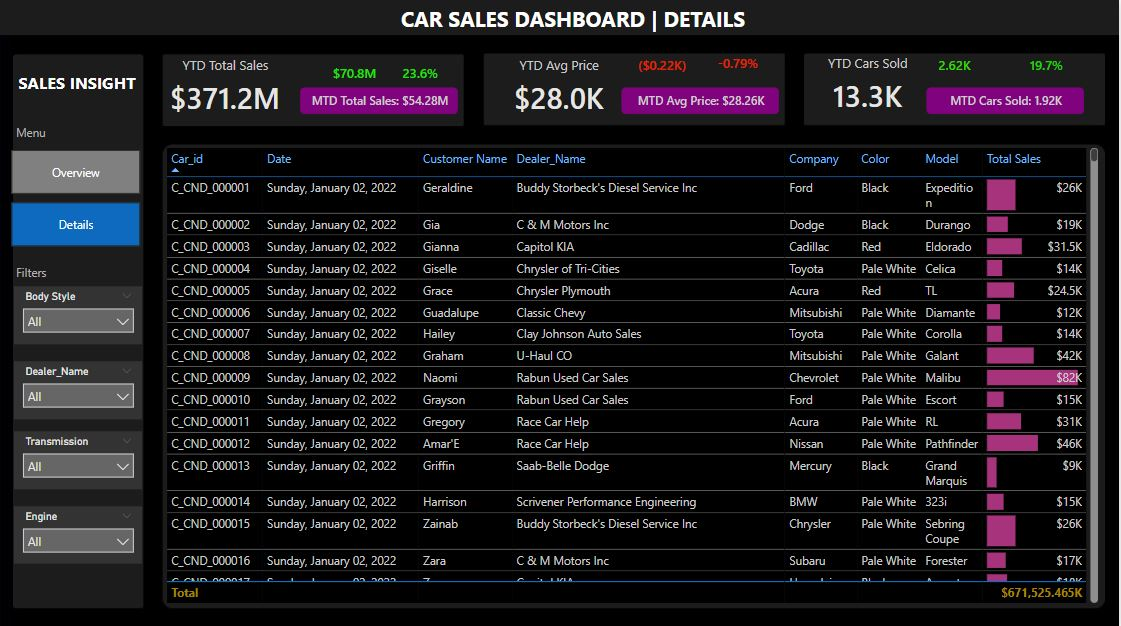

What the dashboard file says about the page in this screenshot:
{"tool":"powerbi","page":{"name":"Details","canvas":[1280,720],"ordinal":1},"visuals":[{"type":"card","title":"YTD Total Sales","fields":{"Values":["car_data.YTD Total Sales"]},"box":[185.7,64.3,145.7,75.7],"z":0},{"type":"card","fields":{"Values":["car_data.Sales Difference"]},"box":[344.3,67.1,124.3,38.6],"z":1000},{"type":"card","fields":{"Values":["car_data.YoY Sales Growth"]},"box":[438.6,64.3,85.7,44.3],"z":2000},{"type":"card","fields":{"Values":["car_data.MTD KPI"]},"box":[344.3,100,180,30],"z":3000},{"type":"card","title":"YTD Avg Price","fields":{"Values":["car_data.YTD Avg Price"]},"box":[567.1,64.3,145.7,75.7],"z":4000},{"type":"card","fields":{"Values":["car_data.Avg Price Diff"]},"box":[695.7,61.4,124.3,25.7],"z":5000},{"type":"card","fields":{"Values":["car_data.YoY Avg Price Growth"]},"box":[801.4,58.6,85.7,32.9],"z":6000},{"type":"card","fields":{"Values":["car_data.MTD AVG KPI"]},"box":[711.4,100,180,30],"z":7000},{"type":"card","title":"YTD Cars Sold","fields":{"Values":["car_data.YTD Cars Sold"]},"box":[920,61.4,145.7,75.7],"z":8000},{"type":"card","fields":{"Values":["car_data.Cars Sold Diff"]},"box":[1030,61.4,124.3,25.7],"z":9000},{"type":"card","fields":{"Values":["car_data.YoY Cars Sold Growth"]},"box":[1154.3,60,85.7,32.9],"z":10000},{"type":"card","fields":{"Values":["car_data.MTD Cars Sold KPI"]},"box":[1060,100,180,30],"z":11000},{"type":"textbox","box":[454.3,0,481.4,50],"z":12000},{"type":"slicer","fields":{"Values":["car_data.Body Style"]},"box":[17.8,326.7,146.7,66.7],"z":13000},{"type":"slicer","fields":{"Values":["car_data.Dealer_Name"]},"box":[17.8,412.2,146.7,66.7],"z":14000},{"type":"slicer","fields":{"Values":["car_data.Transmission"]},"box":[17.8,493.3,146.7,66.7],"z":15000},{"type":"slicer","fields":{"Values":["car_data.Engine"]},"box":[17.8,578.9,146.7,65.6],"z":16000},{"type":"textbox","box":[14.4,297.8,150,33.3],"z":17000},{"type":"tableEx","fields":{"Values":["car_data.Car_id","car_data.Date","car_data.Customer Name","car_data.Dealer_Name","car_data.Company","car_data.Color","car_data.Model","car_data.Total Sales"]},"box":[185.7,164.3,1075.7,530],"z":18000},{"type":"pageNavigator","box":[14.3,171.4,147.1,110],"z":19000},{"type":"textbox","box":[17.1,77.1,168.6,50],"z":20000},{"type":"textbox","box":[14.3,137.1,150,34.3],"z":21000}]}

Visuals, with their boxes on the page's 1280x720 design canvas (x1, y1, x2, y2). These are canvas units, not pixel positions in the 1121x626 screenshot, which may show the page scaled, cropped or inside an application window:
"YTD Total Sales" card: bbox=(186, 64, 331, 140)
card - car_data.Sales Difference: bbox=(344, 67, 469, 106)
card - car_data.YoY Sales Growth: bbox=(439, 64, 524, 109)
card - car_data.MTD KPI: bbox=(344, 100, 524, 130)
"YTD Avg Price" card: bbox=(567, 64, 713, 140)
card - car_data.Avg Price Diff: bbox=(696, 61, 820, 87)
card - car_data.YoY Avg Price Growth: bbox=(801, 59, 887, 92)
card - car_data.MTD AVG KPI: bbox=(711, 100, 891, 130)
"YTD Cars Sold" card: bbox=(920, 61, 1066, 137)
card - car_data.Cars Sold Diff: bbox=(1030, 61, 1154, 87)
card - car_data.YoY Cars Sold Growth: bbox=(1154, 60, 1240, 93)
card - car_data.MTD Cars Sold KPI: bbox=(1060, 100, 1240, 130)
textbox: bbox=(454, 0, 936, 50)
slicer - car_data.Body Style: bbox=(18, 327, 164, 393)
slicer - car_data.Dealer_Name: bbox=(18, 412, 164, 479)
slicer - car_data.Transmission: bbox=(18, 493, 164, 560)
slicer - car_data.Engine: bbox=(18, 579, 164, 644)
textbox: bbox=(14, 298, 164, 331)
tableEx - car_data.Car_id x car_data.Date: bbox=(186, 164, 1261, 694)
pageNavigator: bbox=(14, 171, 161, 281)
textbox: bbox=(17, 77, 186, 127)
textbox: bbox=(14, 137, 164, 171)
